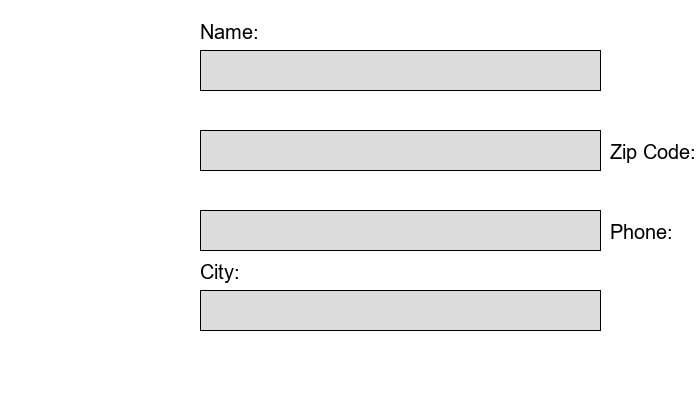Label: (610, 140, 690, 159), (610, 220, 667, 235), (200, 20, 253, 35), (200, 260, 234, 279)
Textbox: (200, 50, 600, 90), (200, 130, 600, 170), (200, 210, 600, 250), (200, 290, 600, 330)
